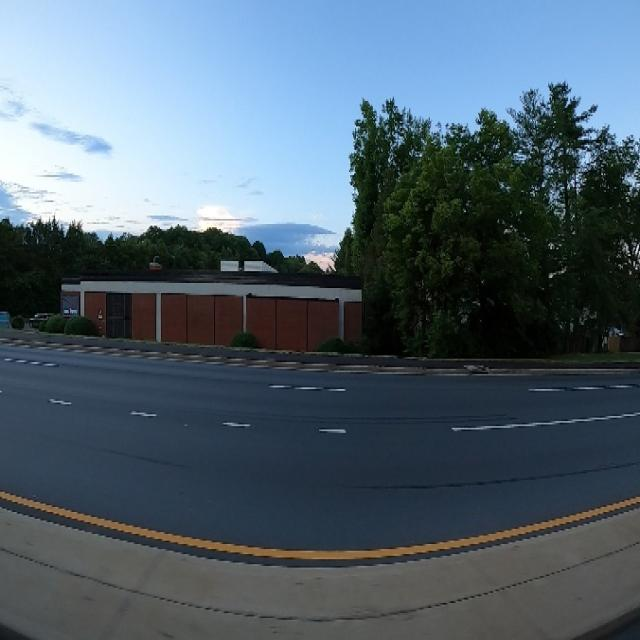cars: (27, 306, 58, 330)
